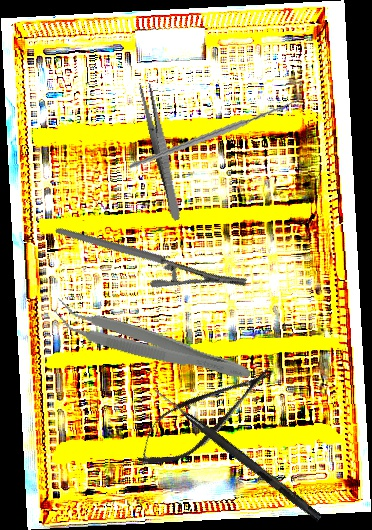Dressing Forceps: (137, 80, 185, 222)
Hook Surgical: (150, 387, 325, 522), (129, 62, 303, 195)
Micro Scissor: (124, 350, 284, 481)
Needle Holder: (54, 172, 251, 340)
Tissue Forceps: (49, 297, 256, 388)
